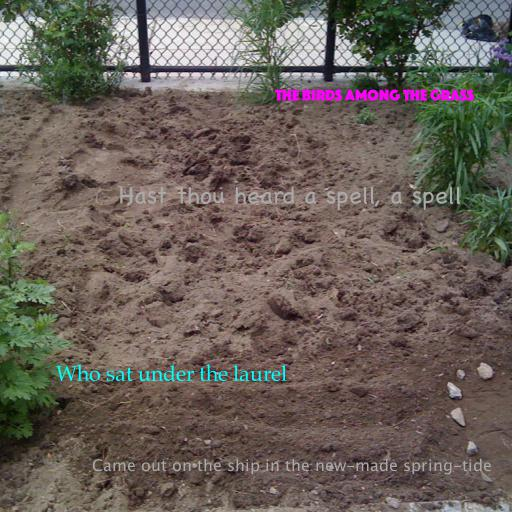Chalkboard: (118, 186, 462, 210)
Lucida Grande: (92, 458, 492, 475)
Palatino: (55, 364, 287, 382)
Phosphate: (274, 89, 474, 101)
